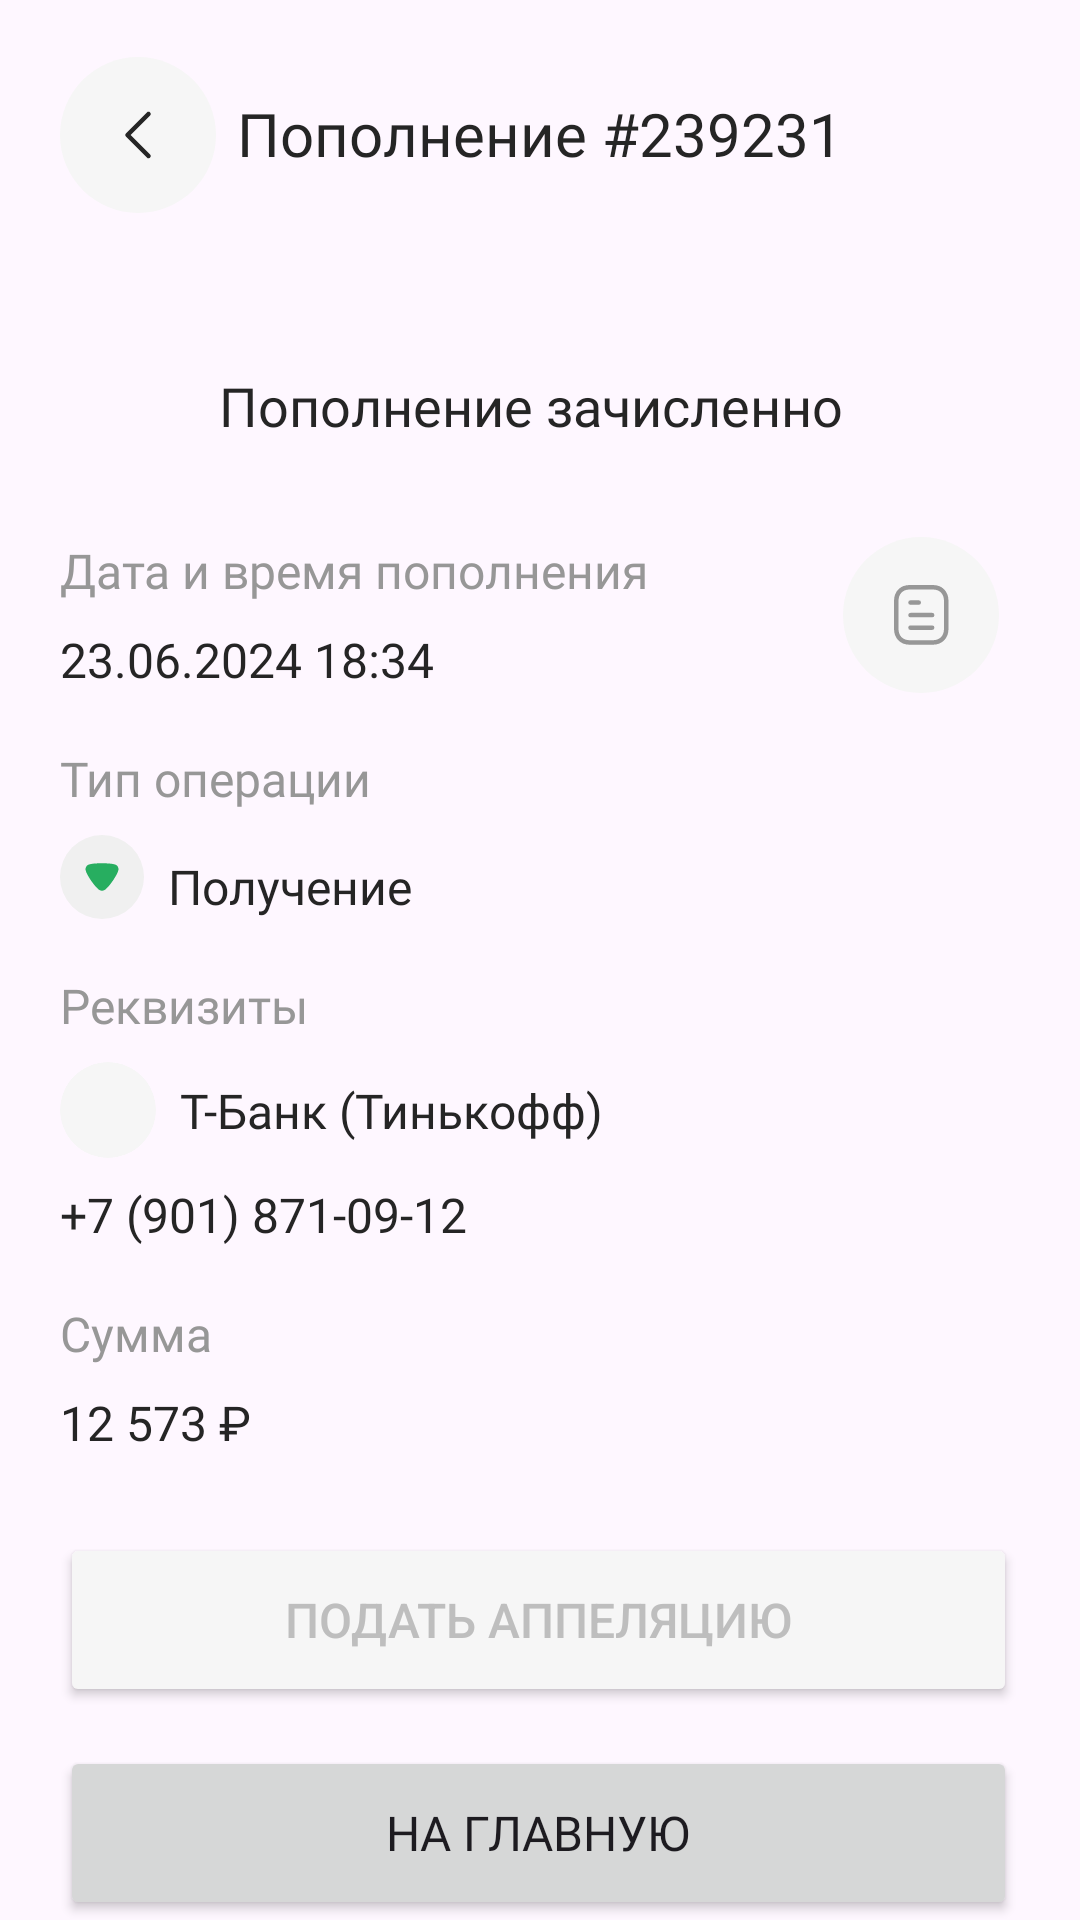

Where to tap for icons on this 1080x1920 app screen, as (x,y):
listinfo: (921,615)
